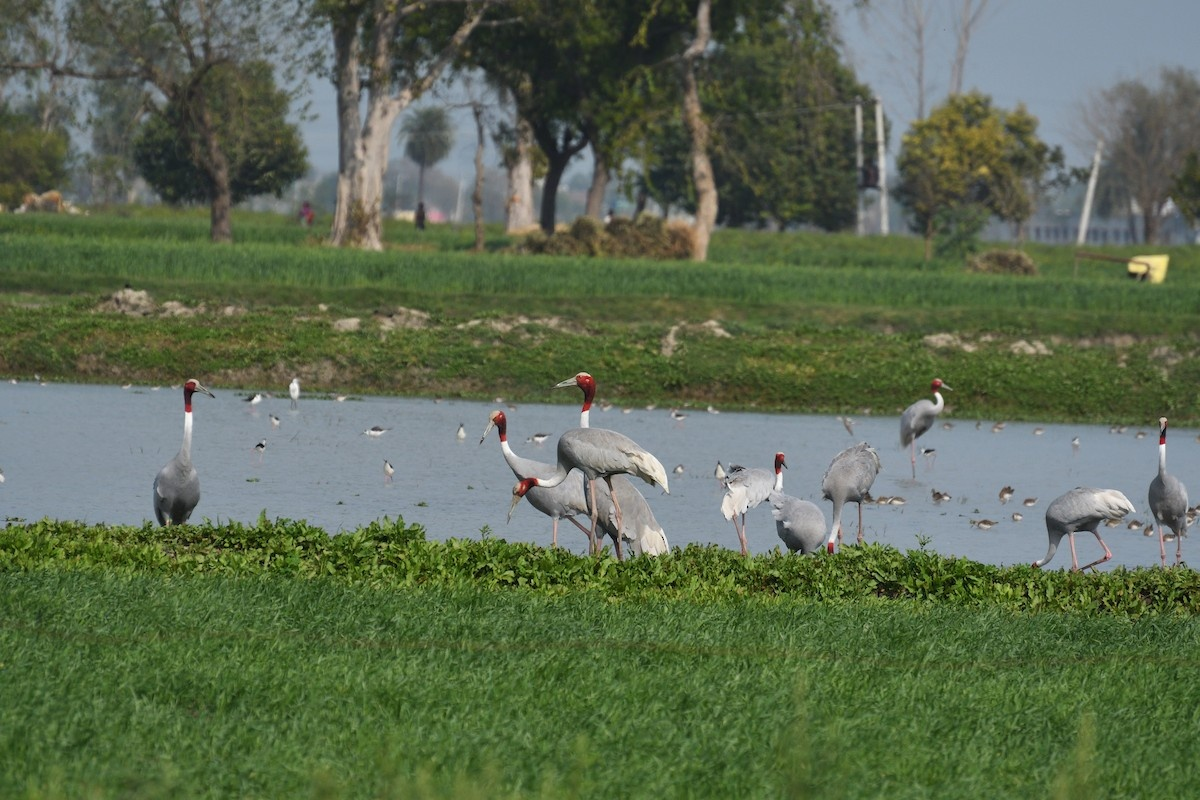crane: (508, 429, 666, 554), (149, 372, 229, 538), (716, 445, 795, 554), (1151, 420, 1198, 557), (891, 377, 951, 480), (479, 406, 539, 479), (555, 372, 604, 423)
